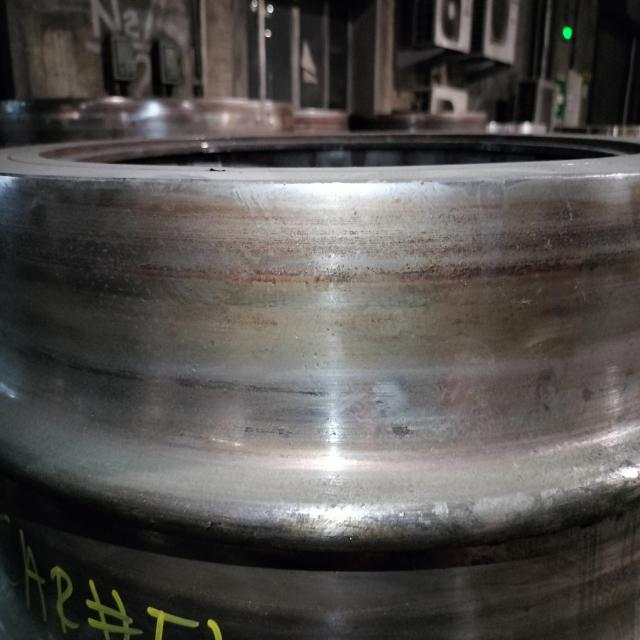flat: (272, 363, 467, 449)
